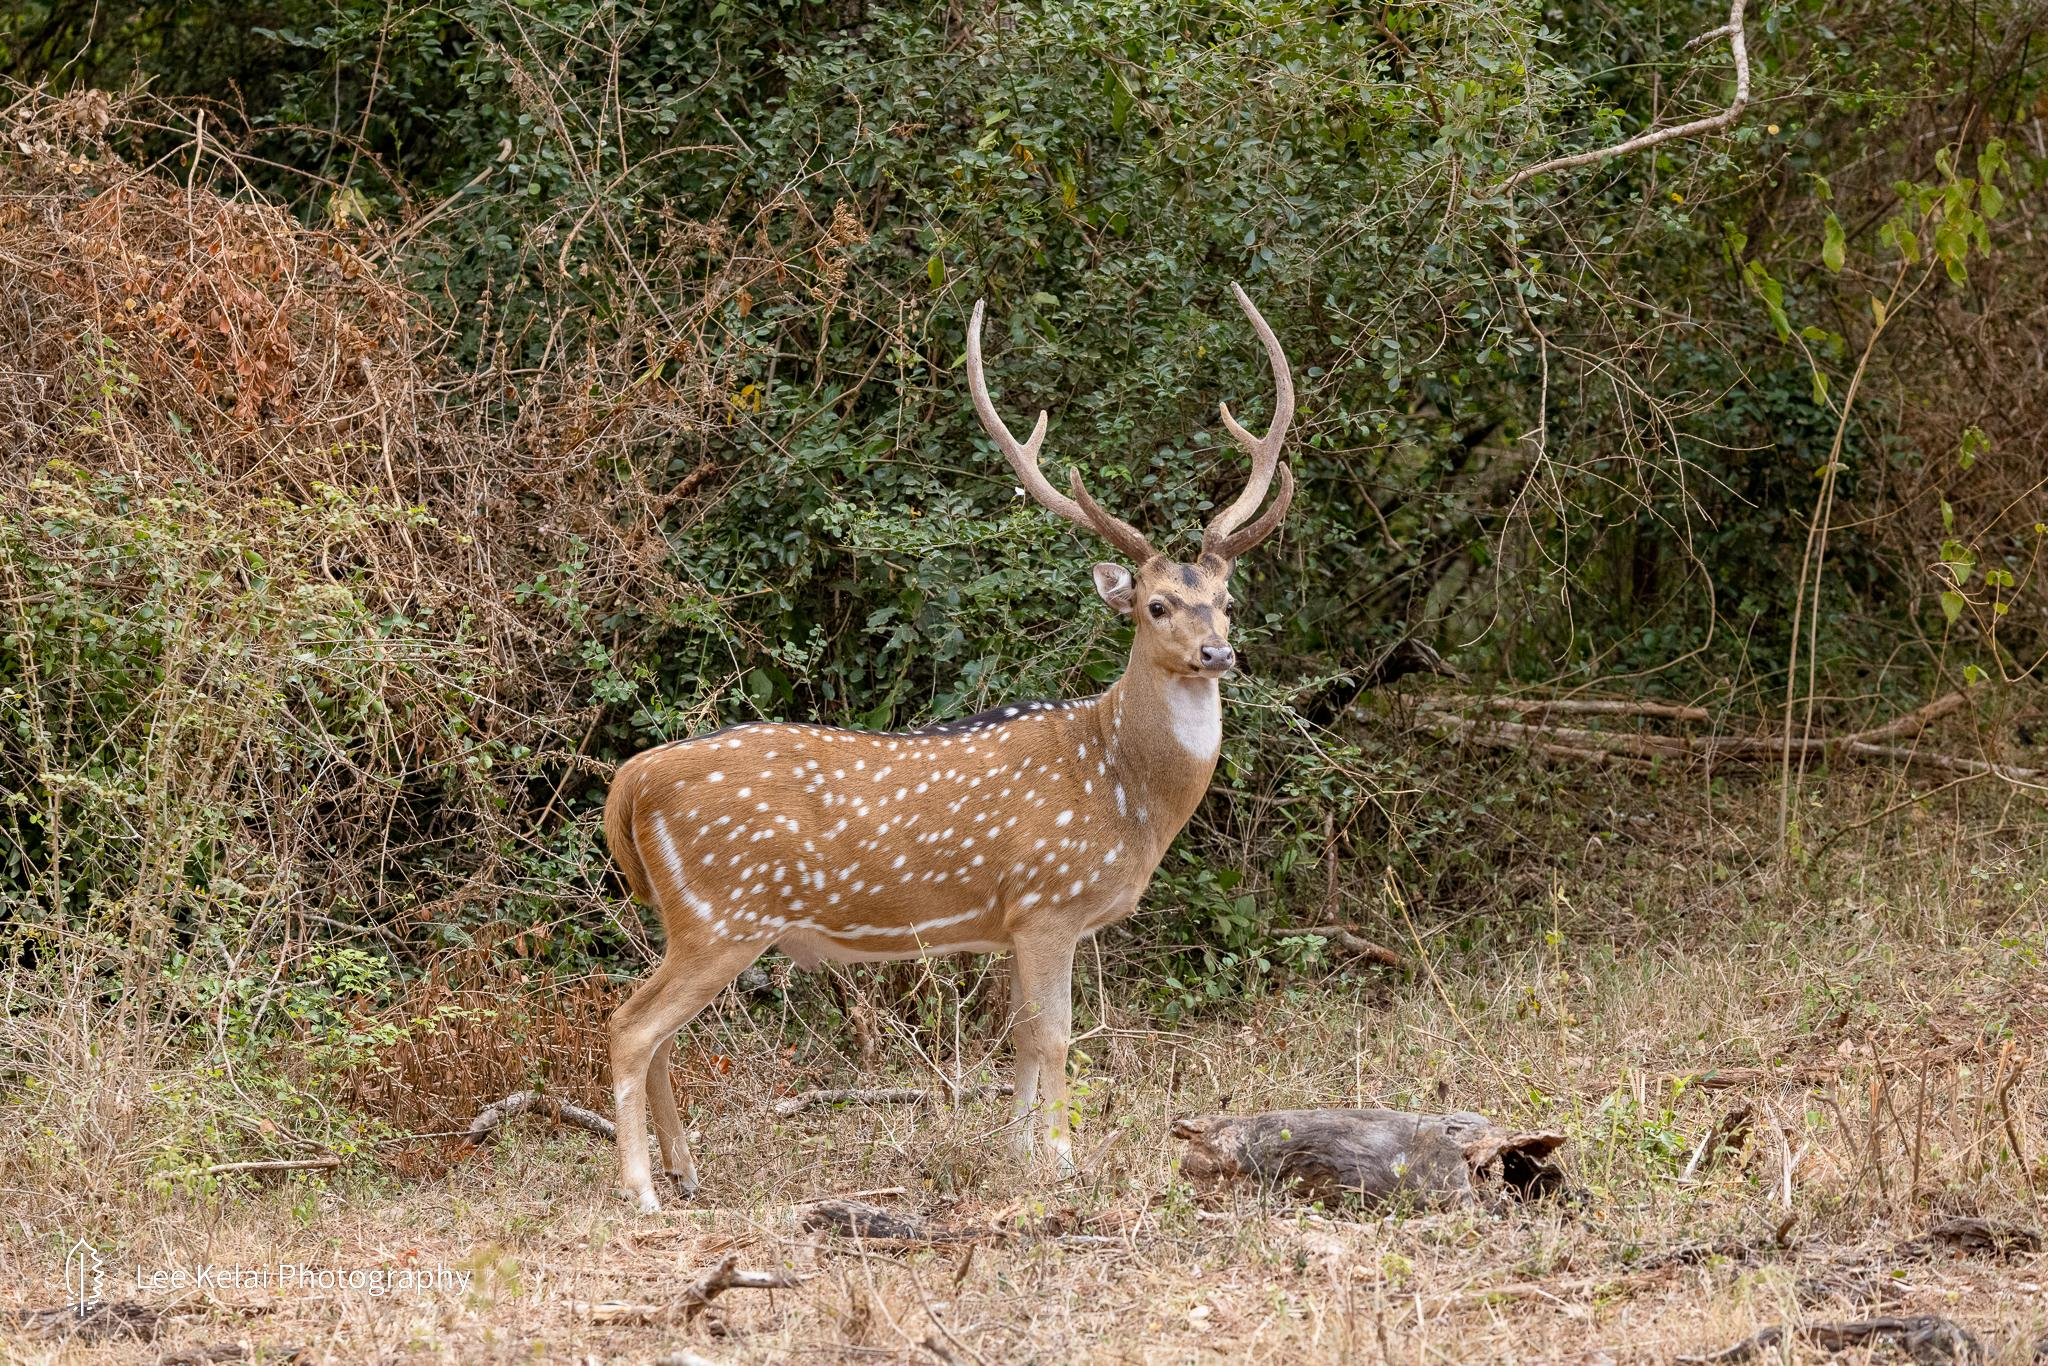Deer: (603, 284, 1294, 1209)
